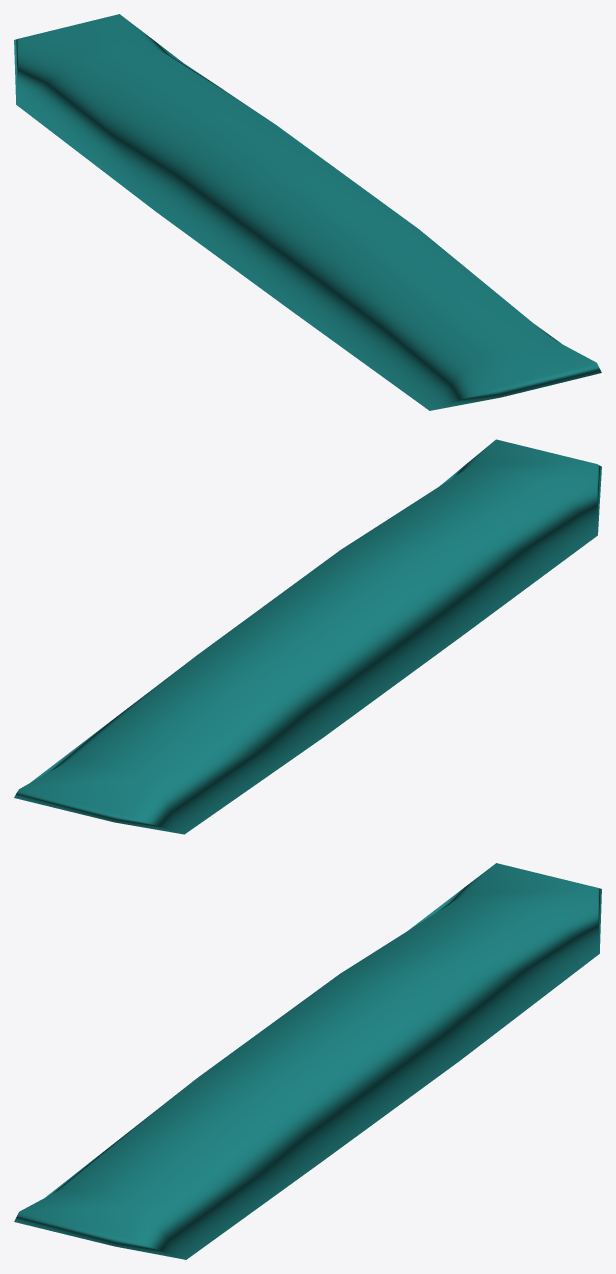
File: snowboard_collider.fbx
3 views of the same model, one above another, from view 1: azimuth 30°, elevation 25°; view 2: azimuth 150°, elevation 25°; view 3: azimuth 330°, elevation 25° (orthographic).
Visible parts, largest first — view 1: snowboard_collider; view 2: snowboard_collider; view 3: snowboard_collider.
Boxes of the visible parts, x1=… form: snowboard_collider: x1=14, y1=14, x2=601, y2=410; snowboard_collider: x1=14, y1=439, x2=601, y2=834; snowboard_collider: x1=14, y1=863, x2=601, y2=1259.
Size of the model in its own units: 27.16 by 8.44 by 136.
